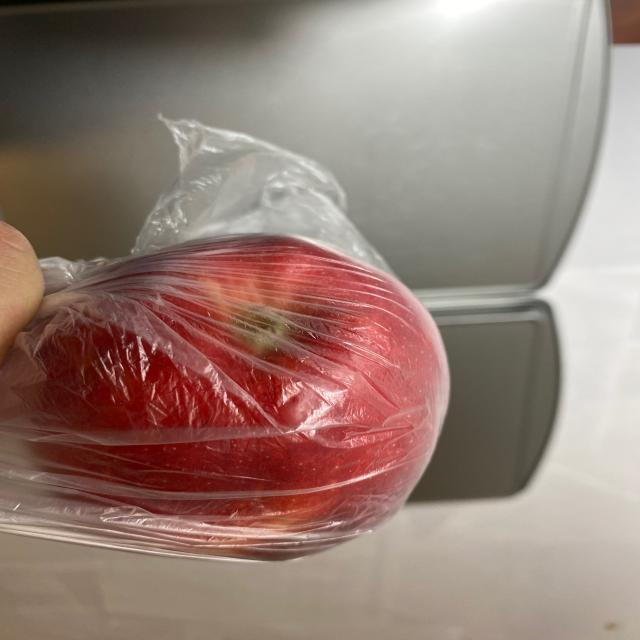apple: (26, 230, 460, 570)
